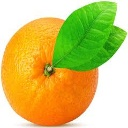orange: (1, 1, 128, 126)
